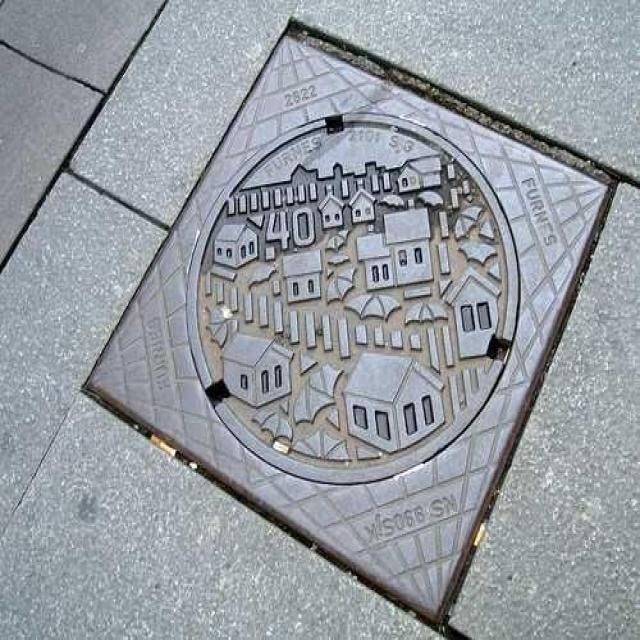manhole: (81, 19, 634, 640)
